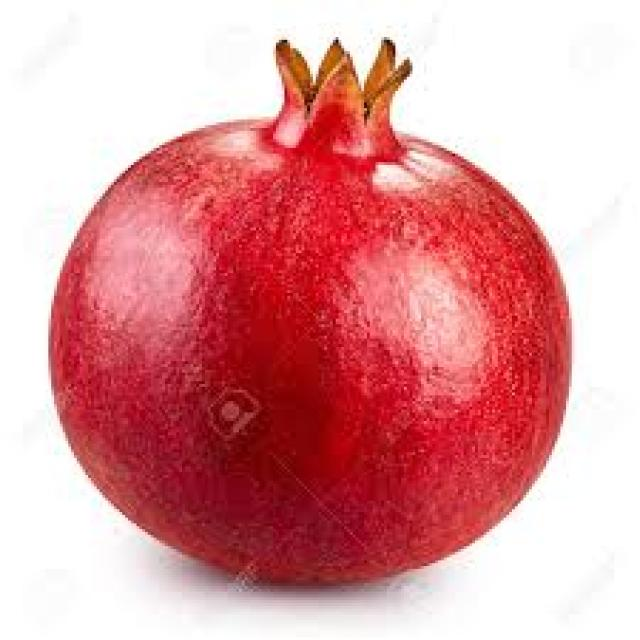Pomegranate: (46, 39, 572, 587)
